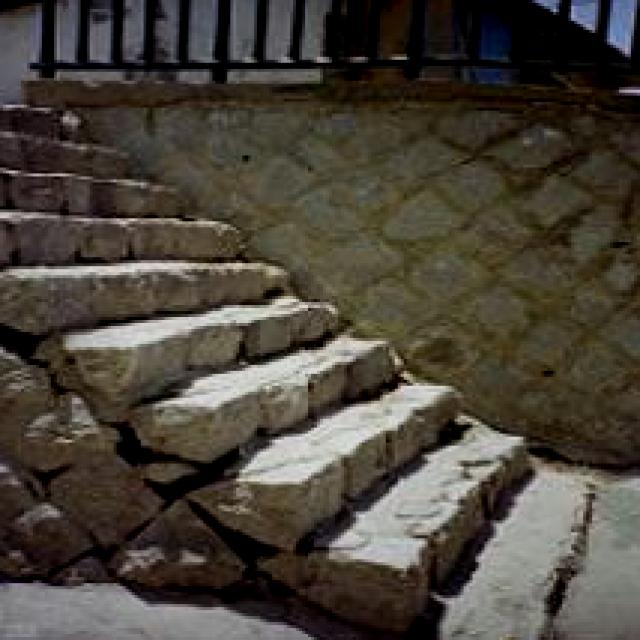upstair: (273, 264, 581, 584)
